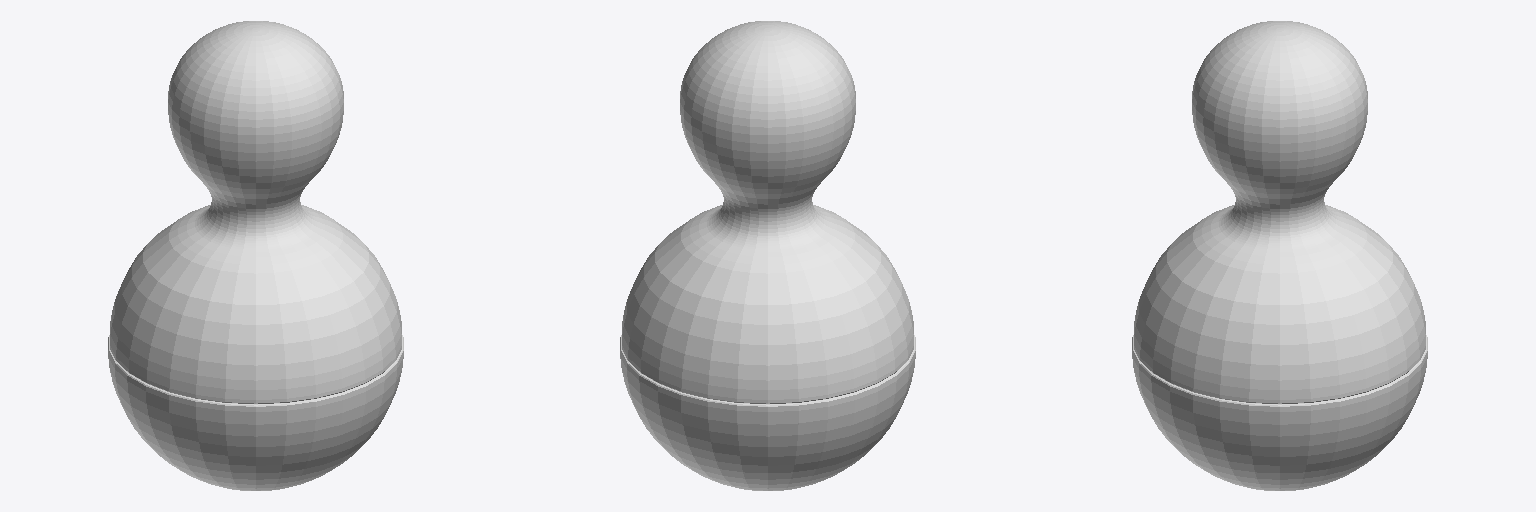
robot.urdf — ChessPawn:
<?xml version="1.0"?>
<robot name="ChessPawn">
  <link name="pawn_body">
    <visual>
      <origin xyz="0 0 0" rpy="0 0 0"/>
      <geometry>
        <mesh filename="./Meshes/Pawn.stl" scale="0.003 0.003 0.003"/>
      </geometry>
      <material name="pawn_material">
        <color rgba="0.9 0.9 0.9 1.0"/>
      </material>
    </visual>
    <collision>
      <origin xyz="0 0 0.025" rpy="0 0 0"/>
      <geometry>
        <cylinder radius="0.012" length="0.05"/>
      </geometry>
    </collision>
    <inertial>
      <origin xyz="0 0 0.025" rpy="0 0 0"/>
      <mass value="0.04"/> <!-- 40 grams, or adjust -->
      <inertia
        ixx="0.00005" ixy="0.0" ixz="0.0"
        iyy="0.00005" iyz="0.0"
        izz="0.00001"/>
    </inertial>
  </link>
</robot>

--- What the picture shows (computed from the rendered views, not written in the file) ---
3 views of the same robot in one strip: view 1: azimuth 30°, elevation 25°; view 2: azimuth 150°, elevation 25°; view 3: azimuth 270°, elevation 25° (orthographic).
Robot: ChessPawn — 1 links, 0 joints (none); root link pawn_body; default pose: all joints at 0.
Links seen in each view (by area): view 1: pawn_body; view 2: pawn_body; view 3: pawn_body.
Boxes of the visible links, <box> form: pawn_body: <box>108,21,403,490</box>; pawn_body: <box>620,21,915,490</box>; pawn_body: <box>1132,21,1427,490</box>.
Size in the robot's own frame: 0.0375 by 0.0372 by 0.0623 metres.
Meshes: 1 distinct files referenced, 1 mesh visuals loaded (1 binary STL).